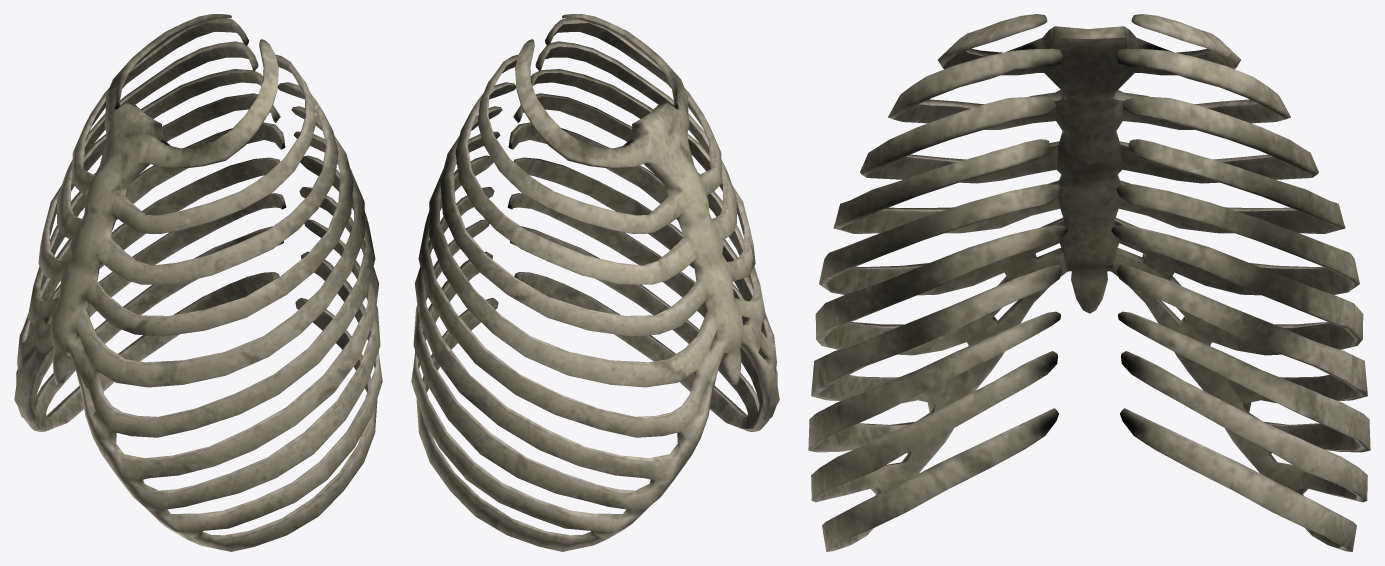
Rendered from SM_Ribs.fbx.
3 renders of one model, left to right at view 1: azimuth 30°, elevation 25°; view 2: azimuth 150°, elevation 25°; view 3: azimuth 270°, elevation 25°, orthographic. The views are drawn at different scales.
Visible parts, largest first — view 1: SM_Ribs_LOD0; view 2: SM_Ribs_LOD0; view 3: SM_Ribs_LOD0.
Boxes of the visible parts, <box> form: SM_Ribs_LOD0: <box>14,14,382,551</box>; SM_Ribs_LOD0: <box>411,14,779,551</box>; SM_Ribs_LOD0: <box>808,14,1370,551</box>.
Bounding box in the file's own units: 21.64 × 30.09 × 34.64.
Materials: 1 (1 with a texture image).
